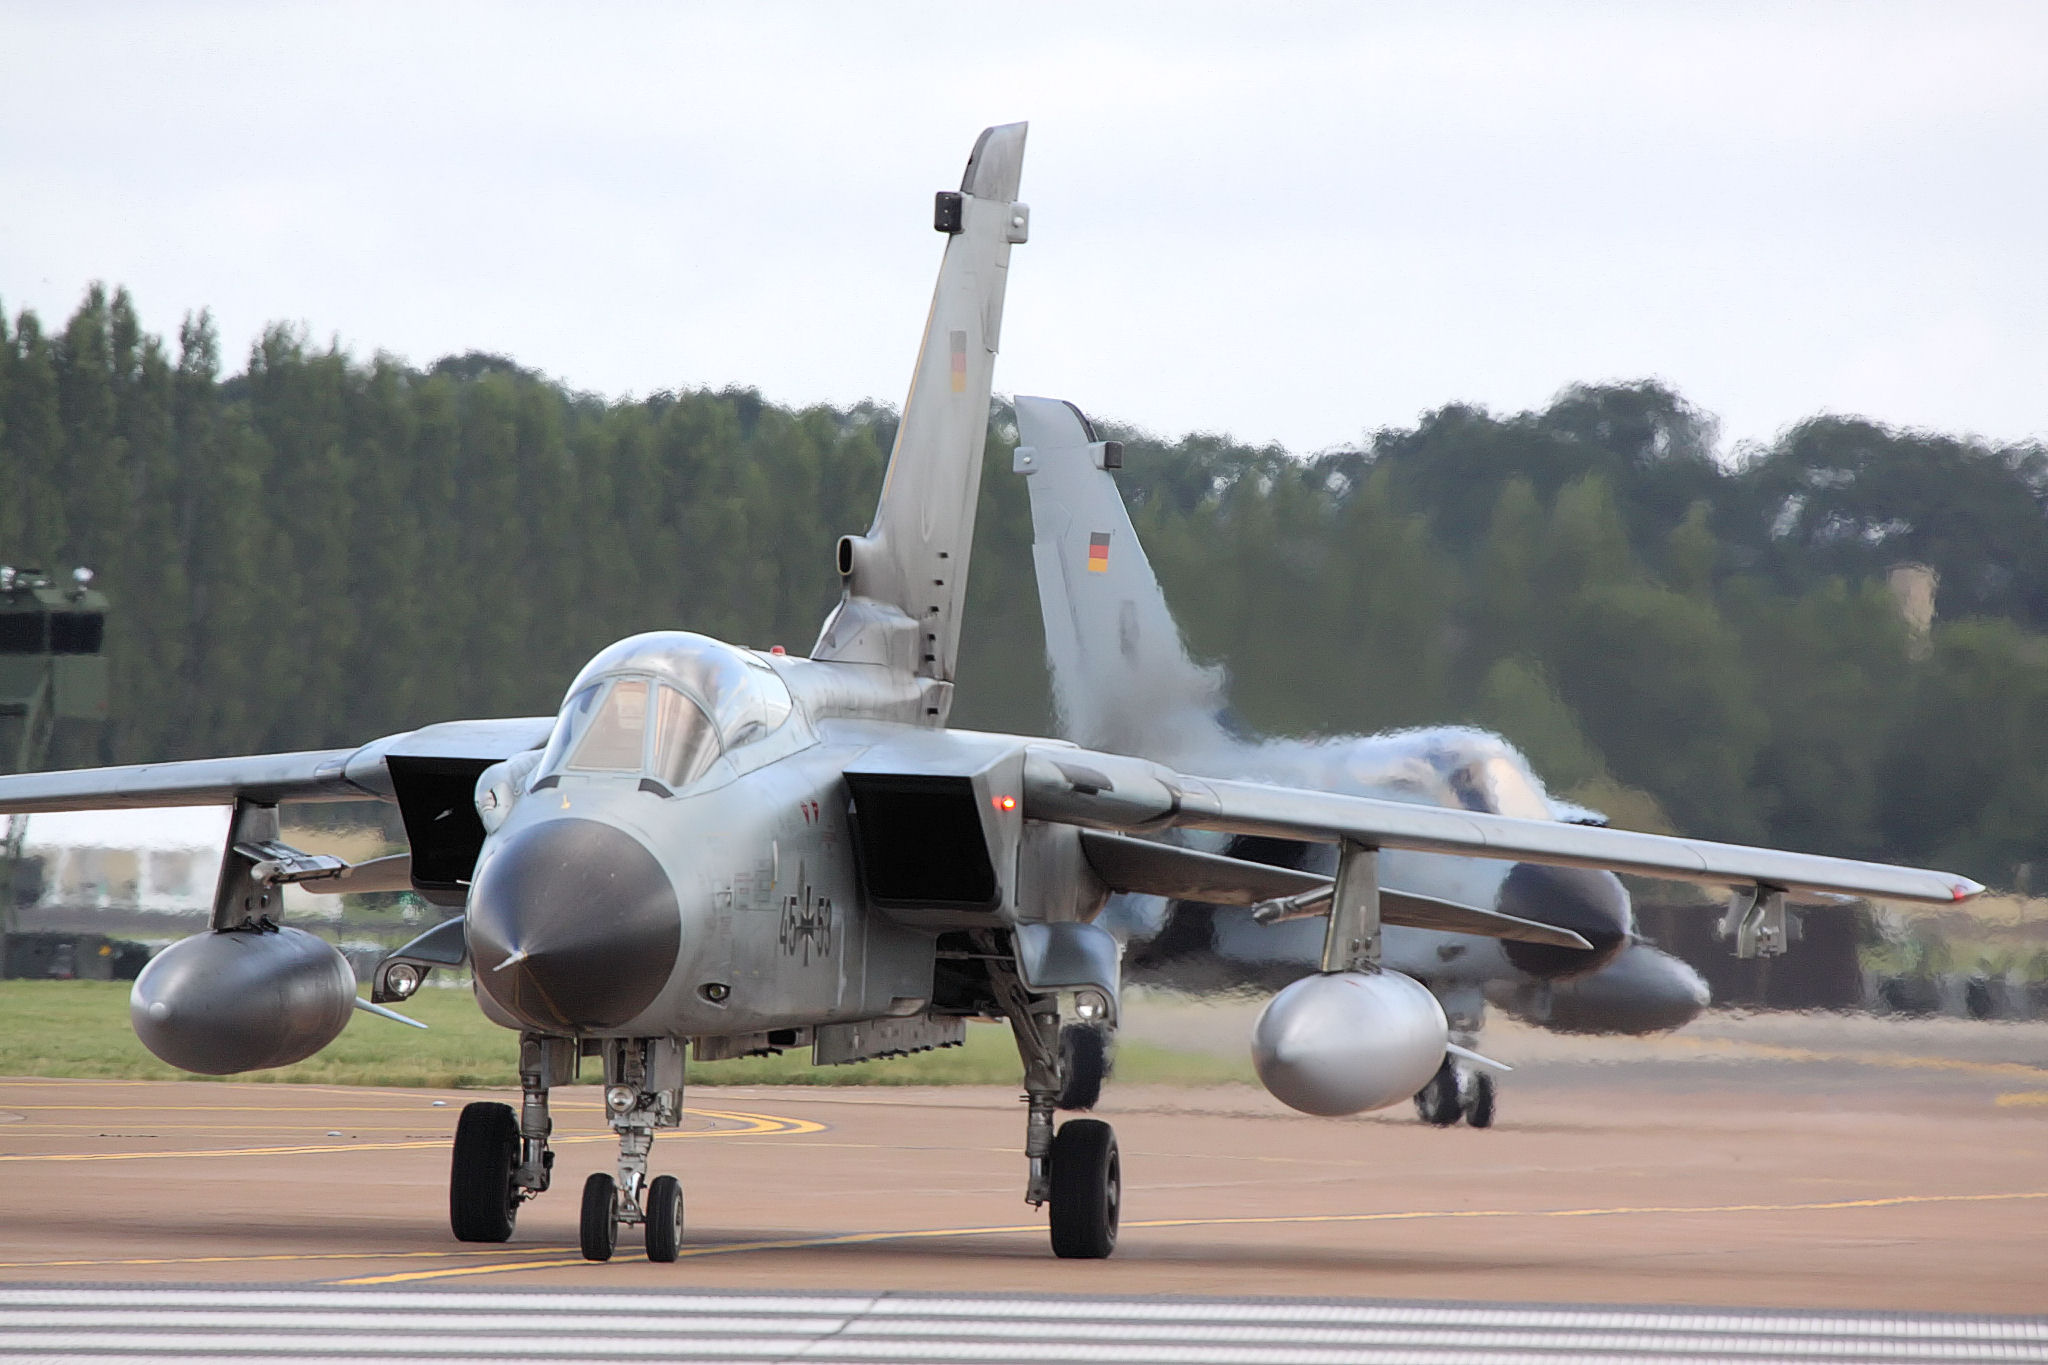Tornado: (2, 119, 1986, 1264), (1011, 395, 1862, 1129)
